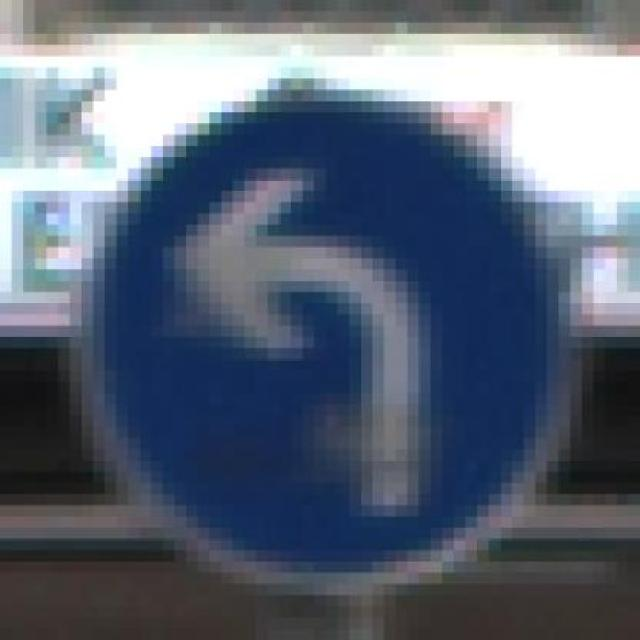Turn left ahead: (70, 67, 605, 607)
